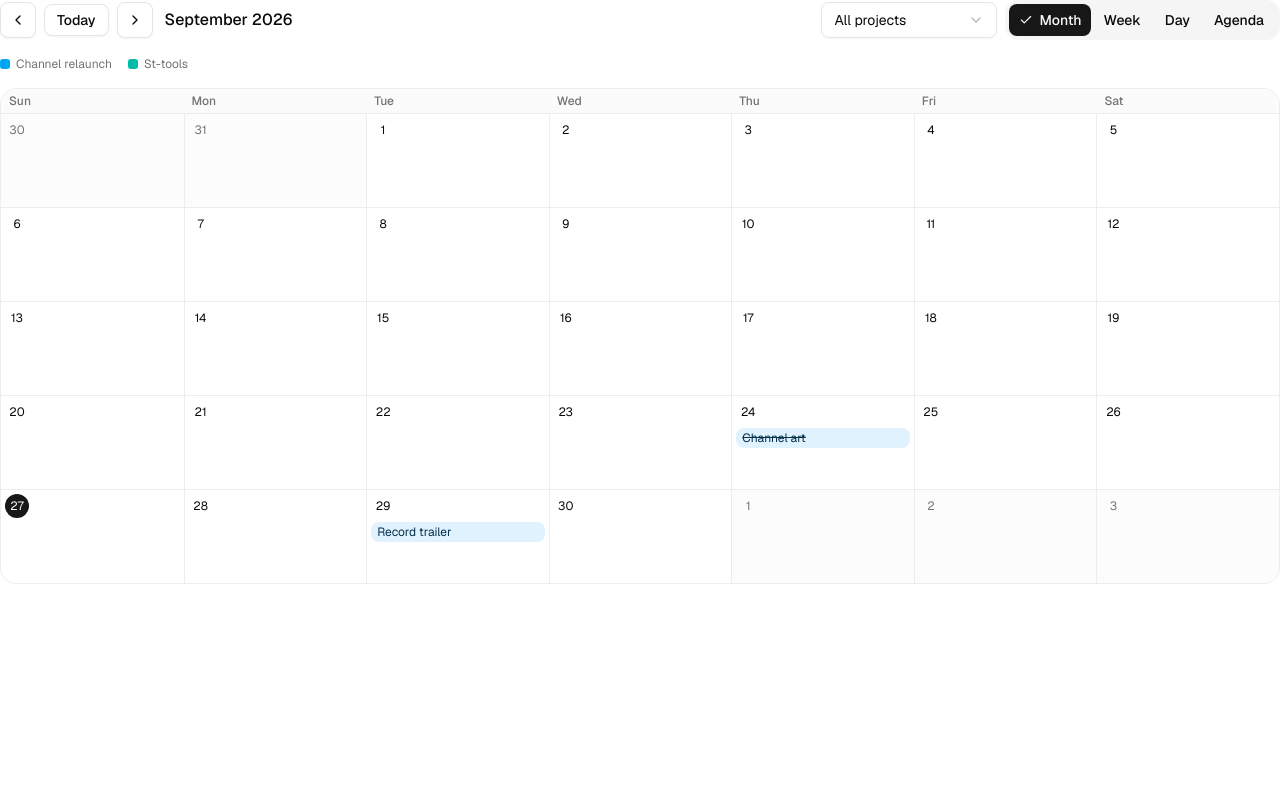
Scenario: HubCalendar › marks finished cards and unassigned ones in the popover
Click the button "Channel art". click: (823, 438)
box: top-left (736, 428), bottom-right (910, 448)
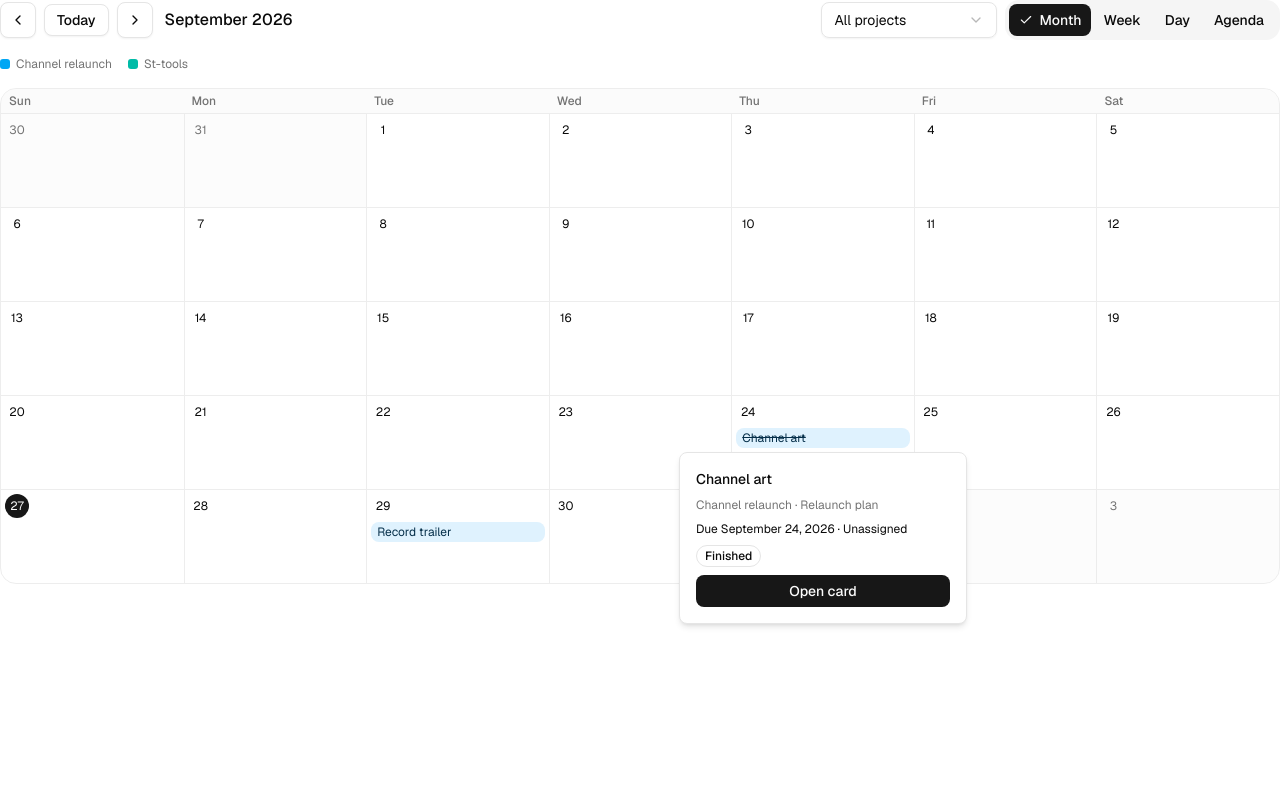
Expected: the dialog "Channel art" shows "Unassigned", top-left (843, 521), bottom-right (907, 537)
Expected: the dialog "Channel art" shows "Finished", top-left (705, 548), bottom-right (752, 564)
